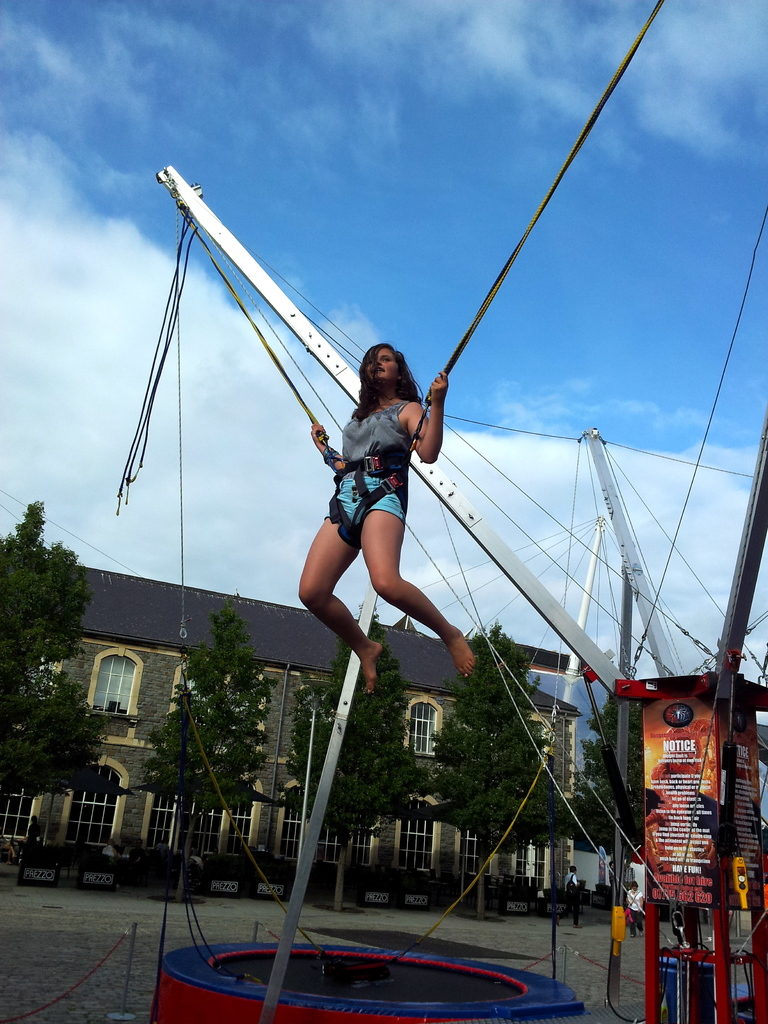person: (297, 340, 477, 695)
